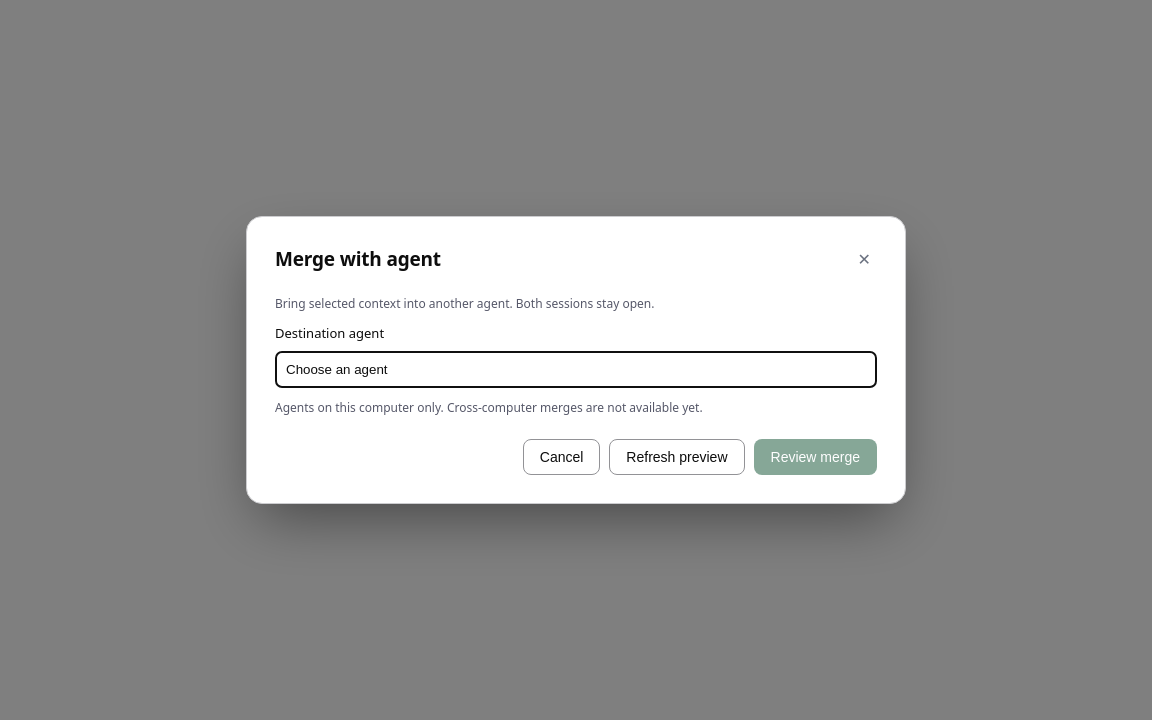
Scenario: refresh preserves edited fields, including deliberate clearing, and explicit exclusions
The image size is (1152, 720).
Select "Destination · Project · busy" in the dropdown labelled "Destination agent" at (576, 369), box x1=275 y1=351 x2=877 y2=388
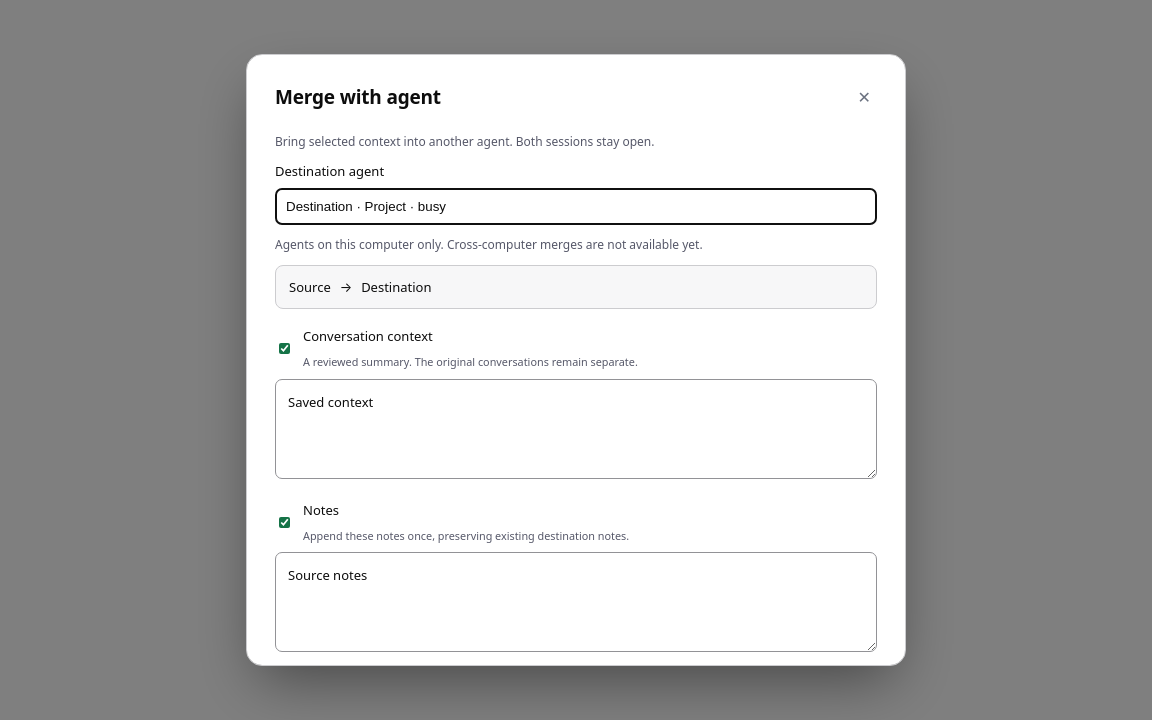
Now the text box showing "Saved context" is shown
Clear the text box named "Context to send" at (576, 429), box x1=275 y1=379 x2=877 y2=479
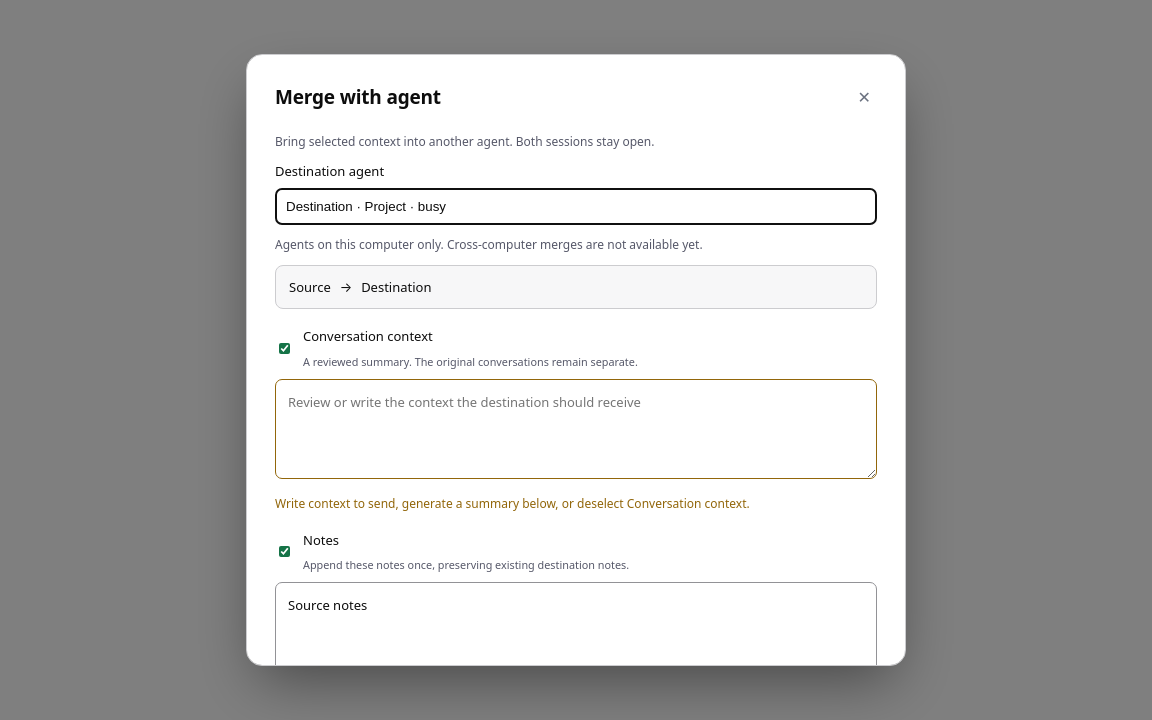
Replace the text in the text box named "notes to append" with "My draft" at (576, 632), box x1=275 y1=582 x2=877 y2=682
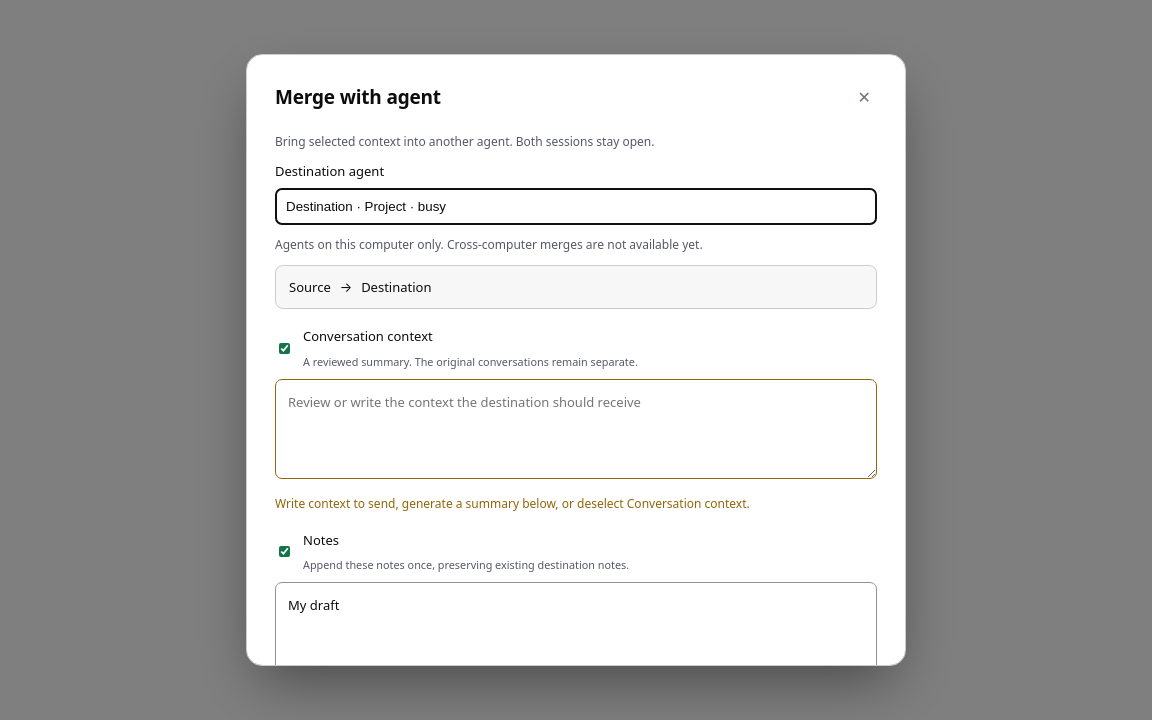
Click the checkbox labelled "Notes".
click(284, 552)  # box x1=279 y1=545 x2=290 y2=558
(page scrolled)
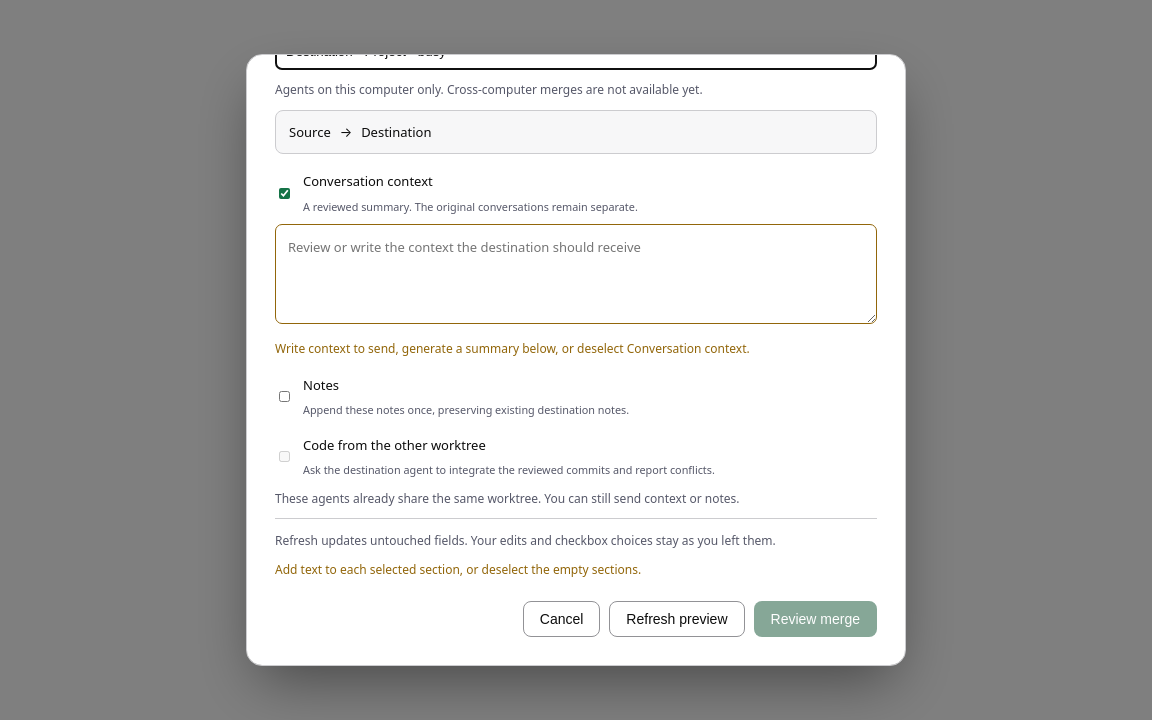
Click the button "Refresh preview".
click(677, 619)  # box x1=609 y1=601 x2=745 y2=637
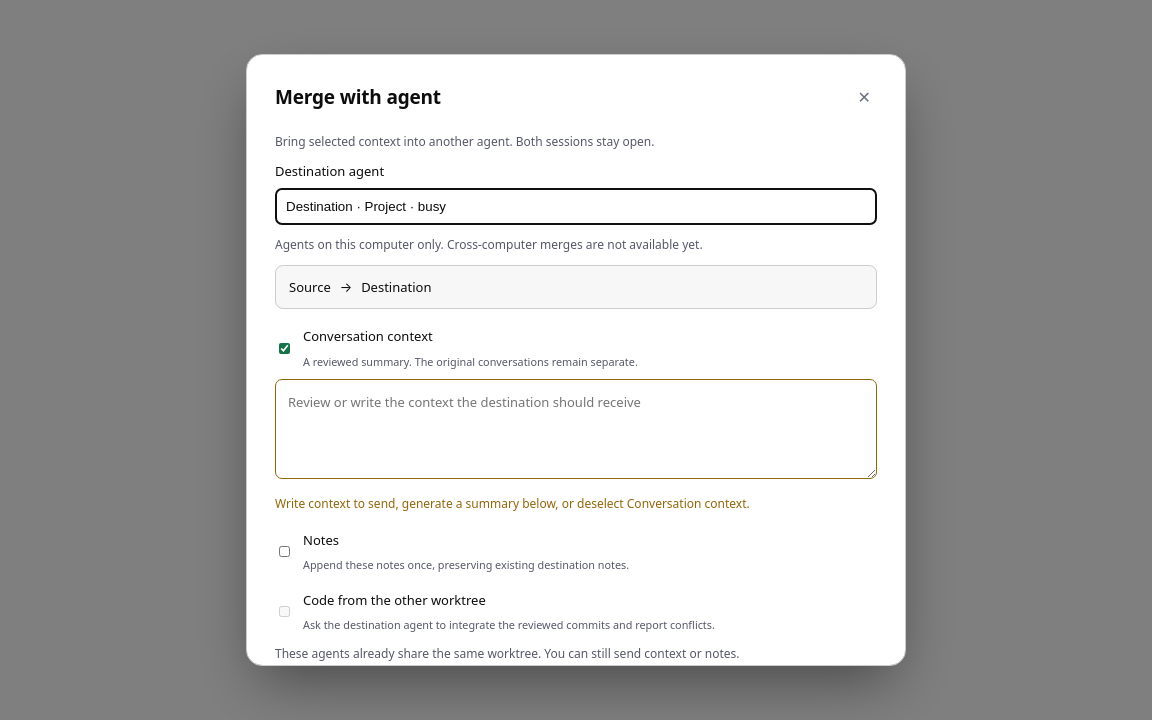
Now the text box named "Context to send" is empty, box x1=275 y1=379 x2=877 y2=479
Now the checkbox labelled "Notes" is not checked
Click the checkbox labelled "Notes".
click(284, 552)  # box x1=279 y1=545 x2=290 y2=558
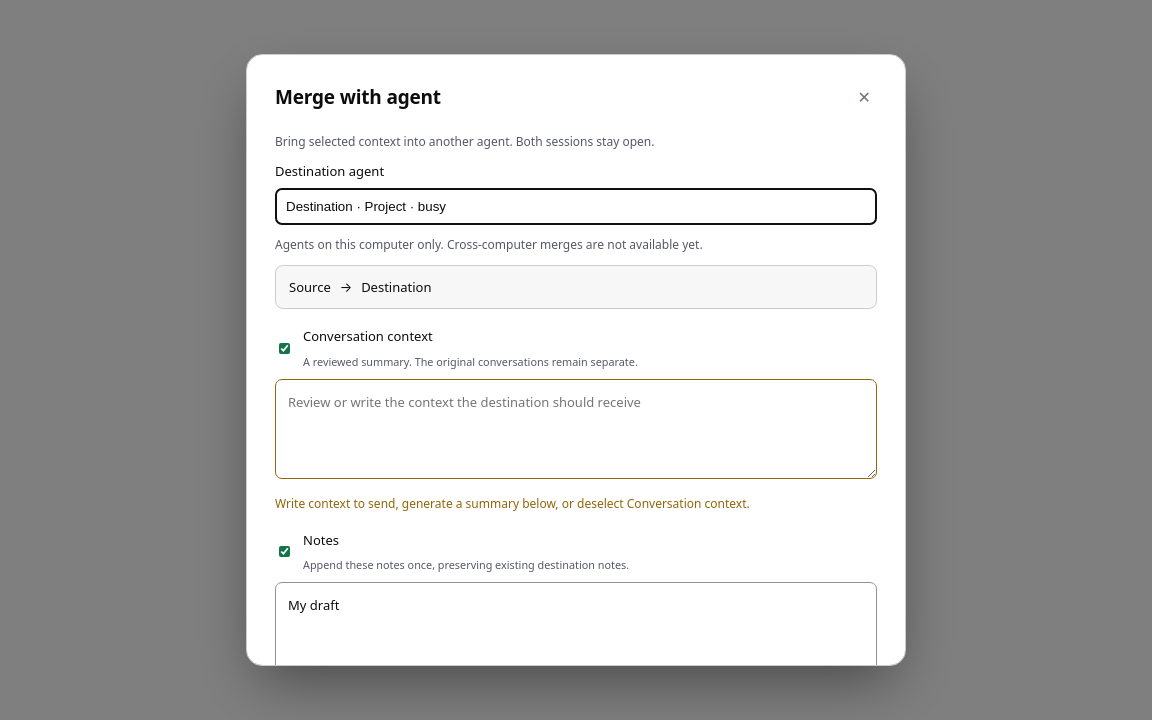
Now the text box named "notes to append" holds "My draft", box x1=275 y1=582 x2=877 y2=666
